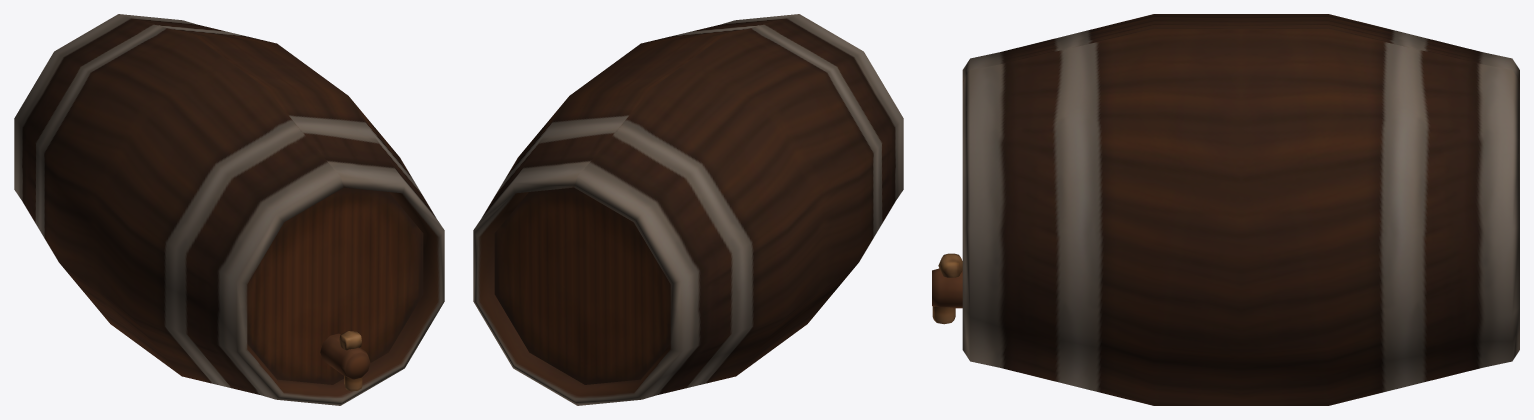
Rendered from BarrelKeg.fbx.
3 views of the same model, side by side, from view 1: azimuth 30°, elevation 25°; view 2: azimuth 150°, elevation 25°; view 3: azimuth 270°, elevation 25° (orthographic). The views are drawn at different scales.
Parts seen in each view (by area): view 1: DinnerScene:Barrel, DinnerScene:Tap; view 2: DinnerScene:Barrel; view 3: DinnerScene:Barrel, DinnerScene:Tap.
Boxes of the visible parts, x1,y1,x2,y2 form: DinnerScene:Barrel: (14,14,444,405); DinnerScene:Tap: (320,333,370,379); DinnerScene:Barrel: (473,14,903,405); DinnerScene:Barrel: (962,14,1519,405); DinnerScene:Tap: (932,268,962,308).
Size of the model in its own units: 8.2 by 8.62 by 12.69.
